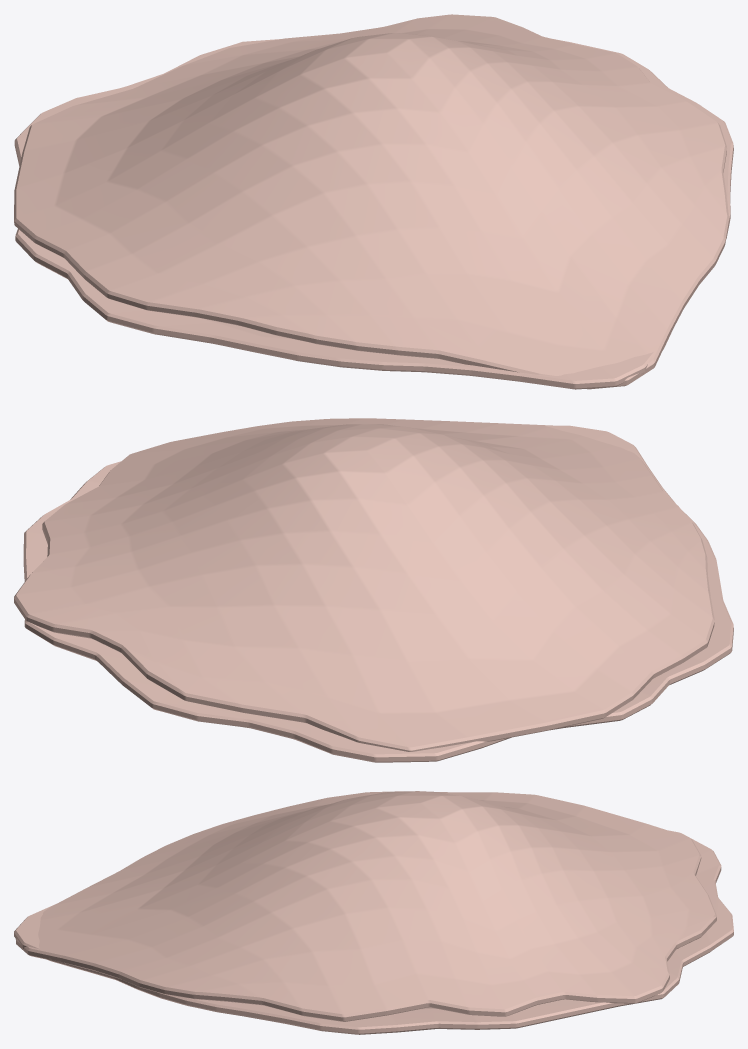
Rendered from Closed Seashell.fbx.
3 views of the same model, one above another, from view 1: azimuth 30°, elevation 25°; view 2: azimuth 150°, elevation 25°; view 3: azimuth 270°, elevation 25° (orthographic). The views are drawn at different scales.
Visible parts, largest first — view 1: Closed_Seashell; view 2: Closed_Seashell; view 3: Closed_Seashell.
Boxes of the visible parts, x1,y1,x2,y2 form: Closed_Seashell: (14, 14, 733, 389); Closed_Seashell: (14, 418, 733, 762); Closed_Seashell: (14, 791, 733, 1034).
Bounding box in the file's own units: 2.41 × 0.8163 × 2.79.
